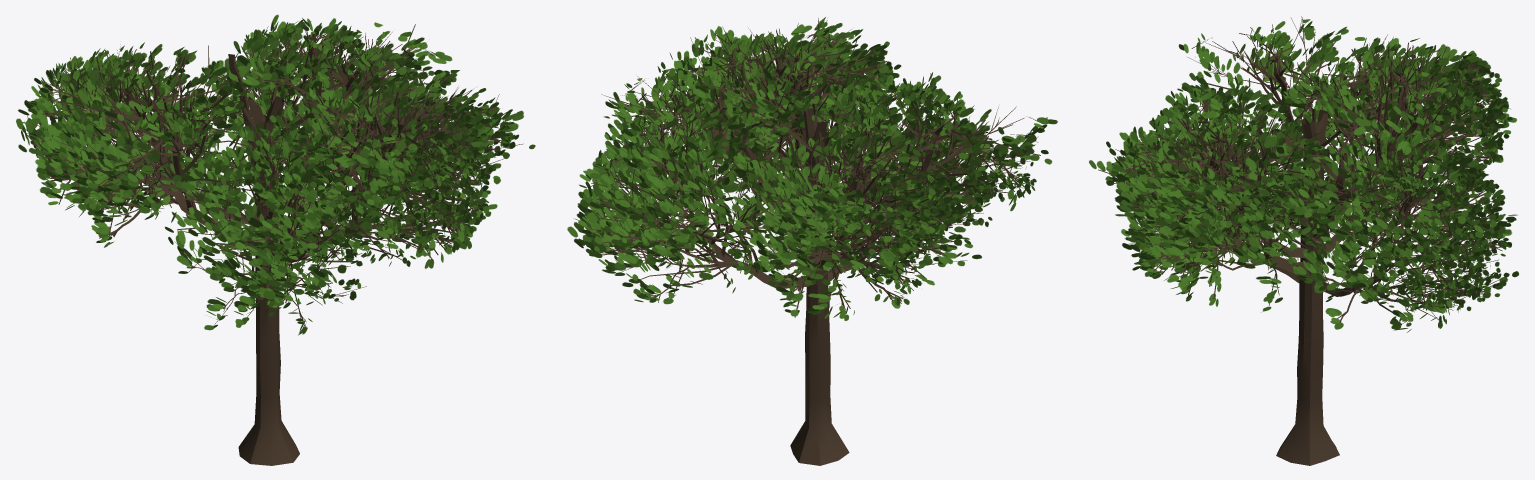
3 views of the same model, side by side, from view 1: azimuth 30°, elevation 25°; view 2: azimuth 150°, elevation 25°; view 3: azimuth 270°, elevation 25° (orthographic). The views are drawn at different scales.
Parts seen in each view (by area): view 1: oak 01.001_trunk_Mat.001_0.104; view 2: oak 01.001_trunk_Mat.001_0.104; view 3: oak 01.001_trunk_Mat.001_0.104.
Part boxes in pixels (x1=…): oak 01.001_trunk_Mat.001_0.104: x1=16, y1=14, x2=535, y2=465; oak 01.001_trunk_Mat.001_0.104: x1=567, y1=17, x2=1057, y2=465; oak 01.001_trunk_Mat.001_0.104: x1=1089, y1=16, x2=1518, y2=465.
Bounding box in the file's own units: 4.11 × 3.47 × 3.81.
Materials: 2 (1 with a texture image).
